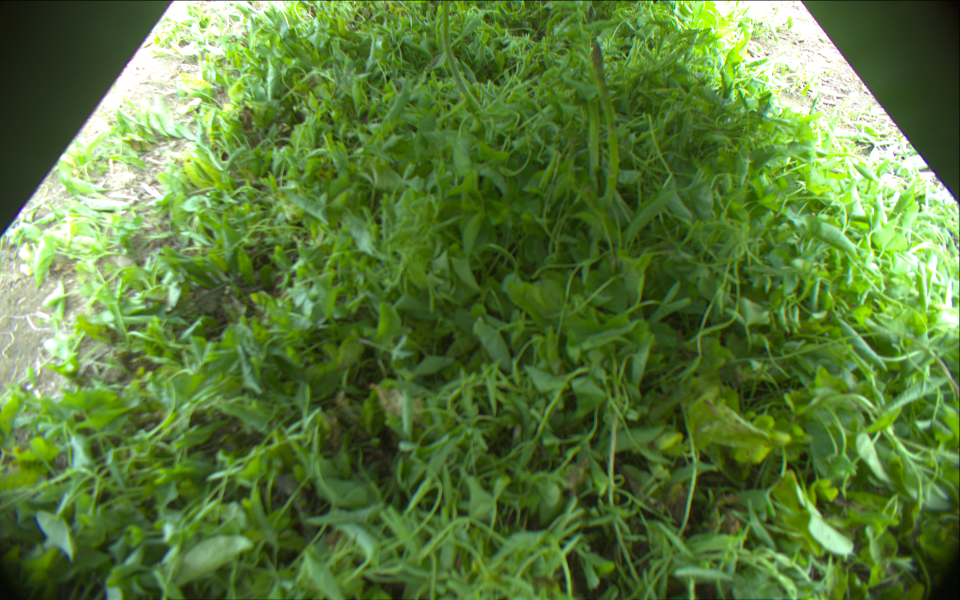aspa: (589, 40, 618, 206), (442, 1, 480, 111), (589, 99, 601, 185)
